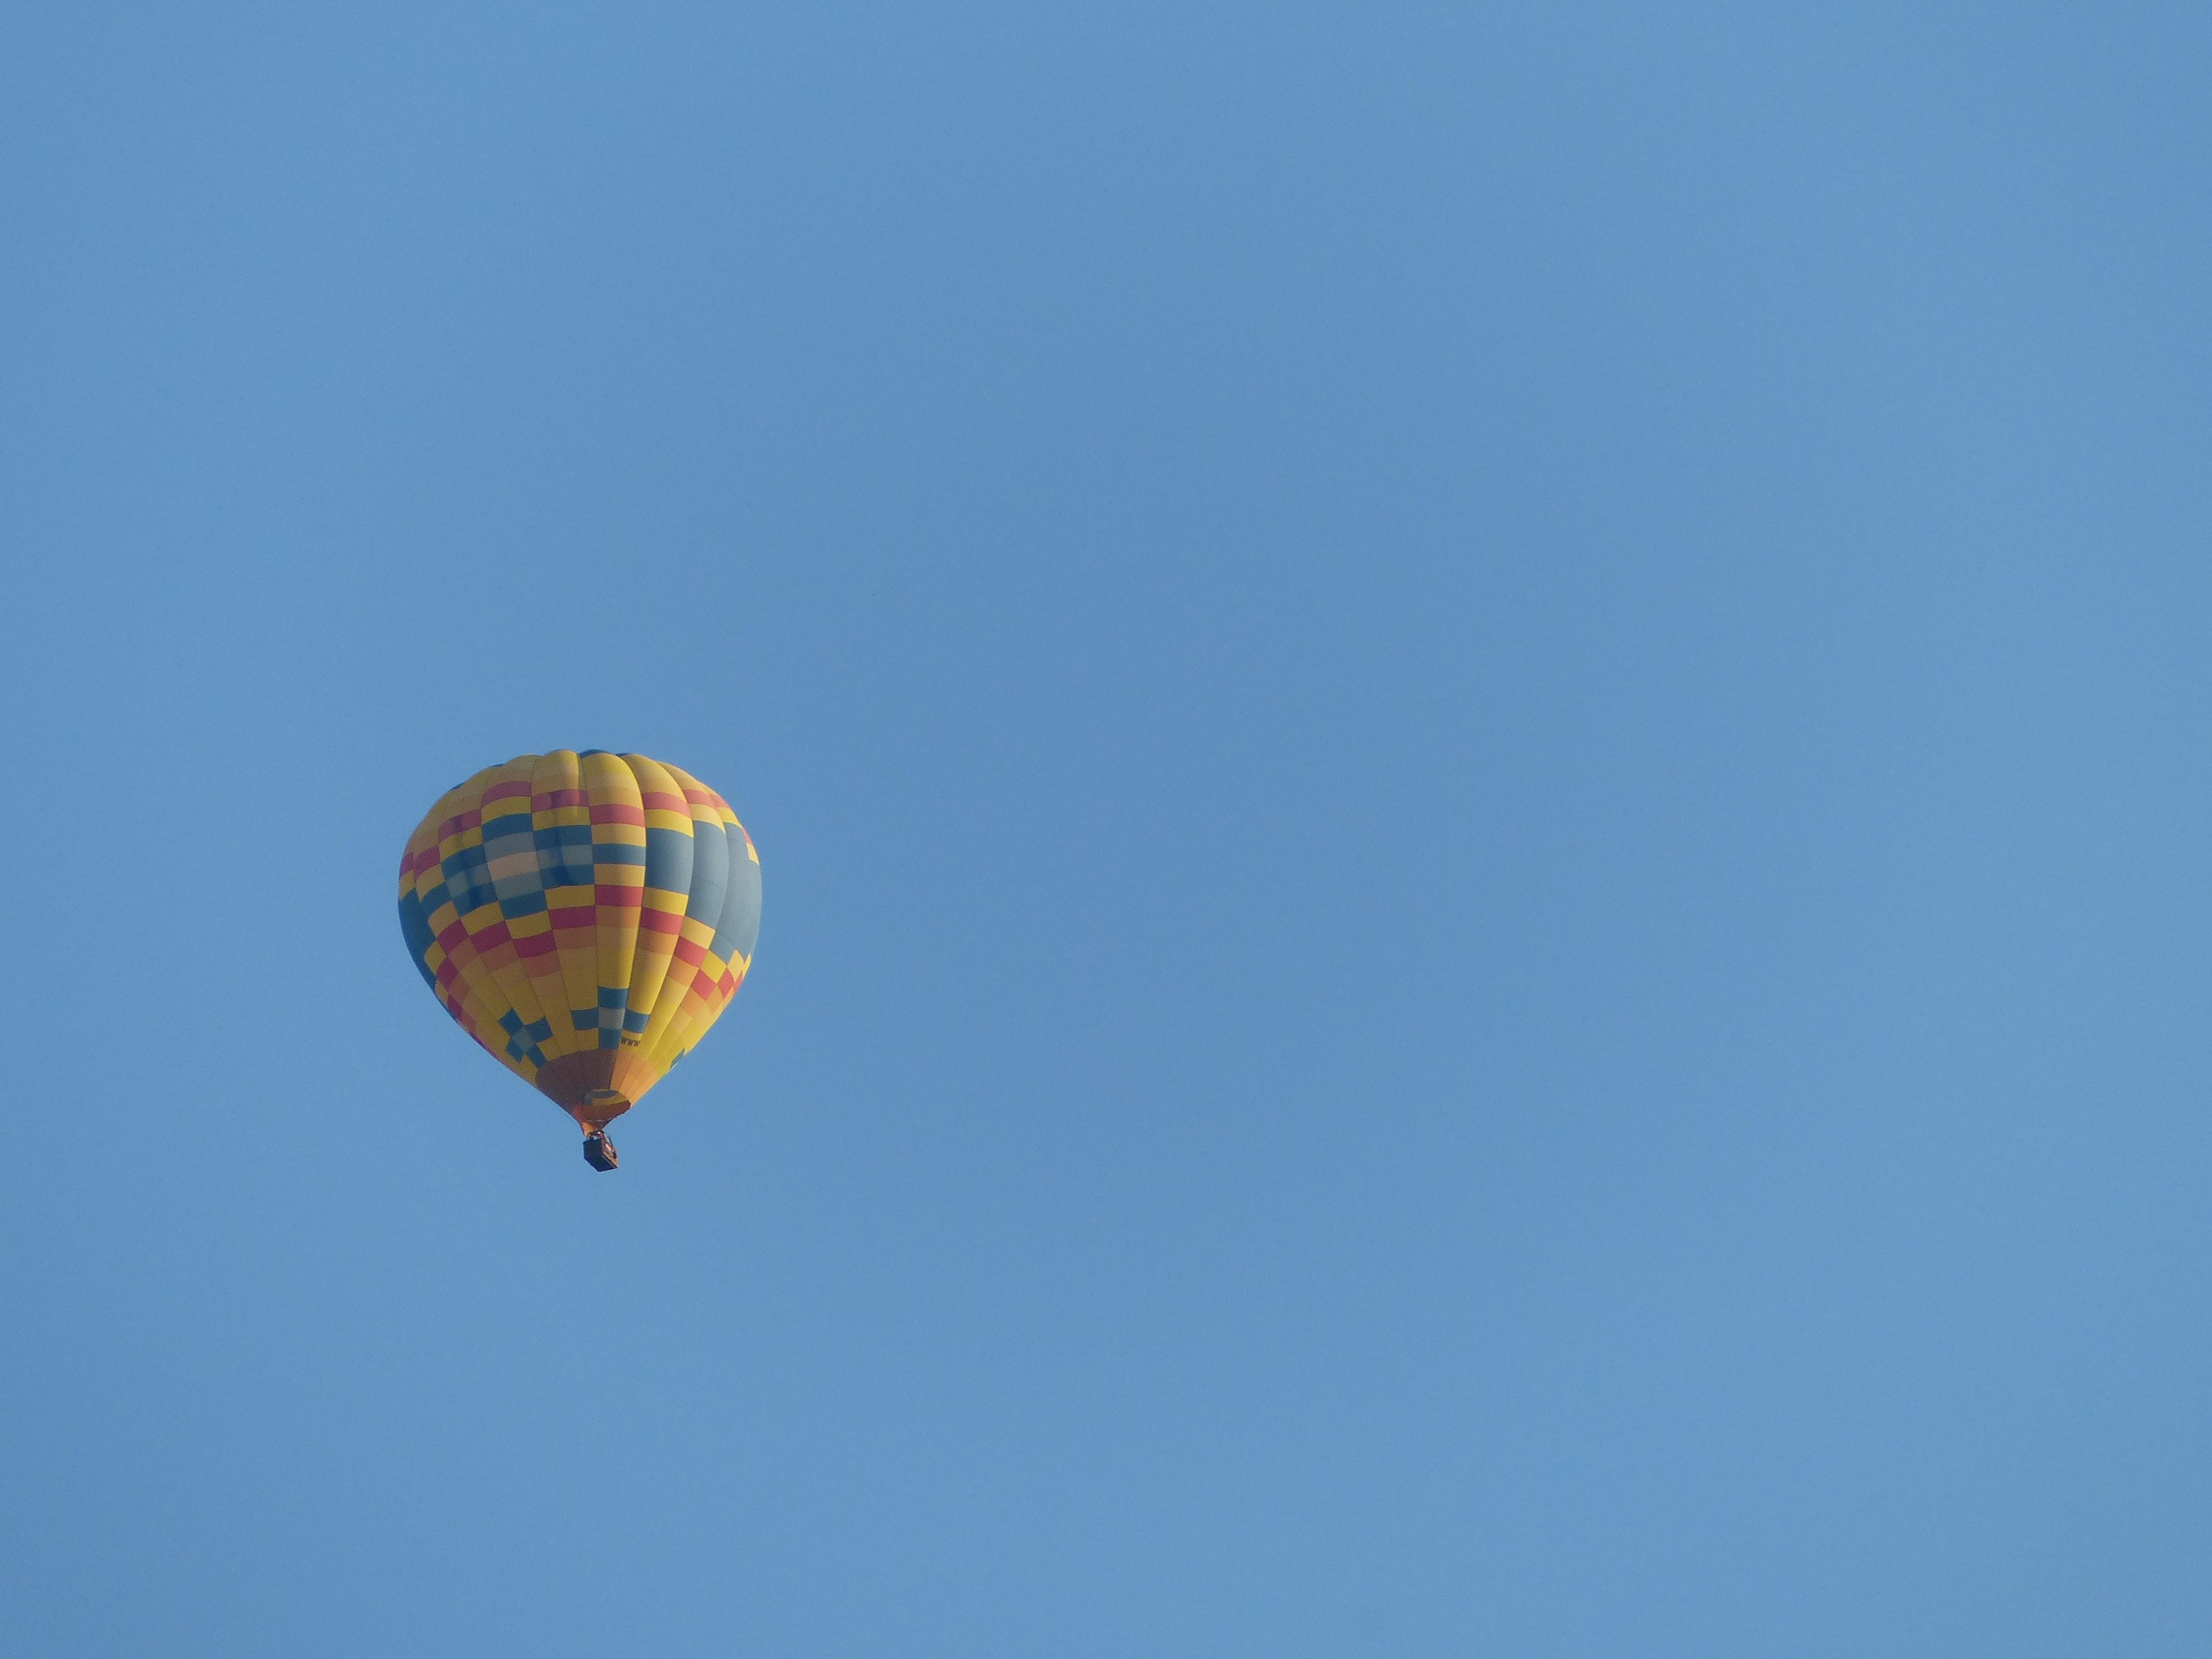hot air ballon: (397, 753, 761, 1175)
